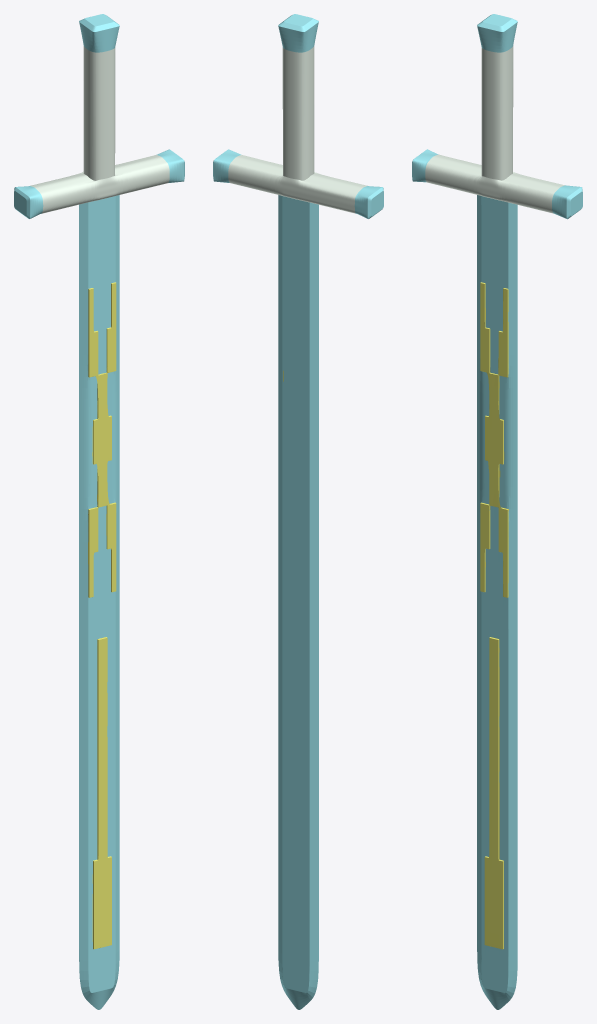
Rendered from Sword.fbx.
3 views of the same model, side by side, from view 1: azimuth 30°, elevation 25°; view 2: azimuth 150°, elevation 25°; view 3: azimuth 330°, elevation 25° (orthographic).
Visible parts, largest first — view 1: Sword; view 2: Sword; view 3: Sword.
Part boxes in pixels (x1=…): Sword: x1=14, y1=14, x2=184, y2=1009; Sword: x1=213, y1=14, x2=383, y2=1009; Sword: x1=412, y1=14, x2=582, y2=1009.
Size of the model in its own units: 20.01 by 119 by 3.48.
